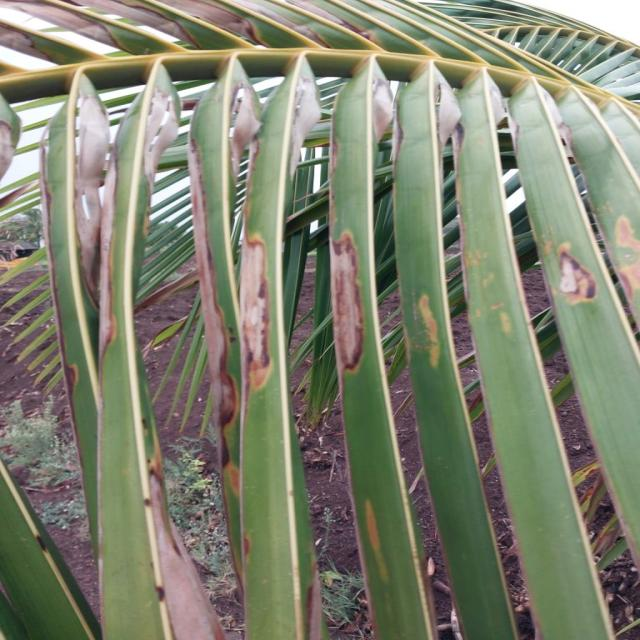gray leaf spot: (68, 75, 525, 392), (0, 0, 315, 59), (140, 469, 229, 638), (324, 239, 372, 377), (552, 239, 624, 310)
